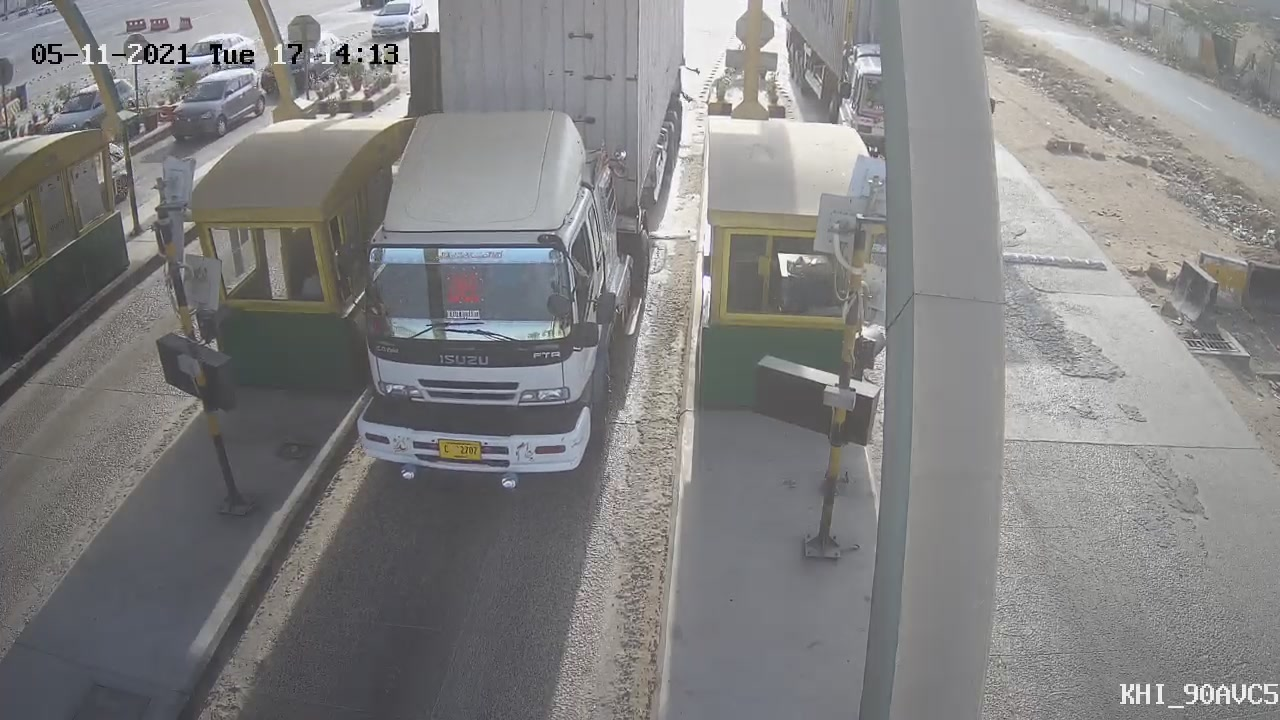F6: (291, 1, 712, 513)
